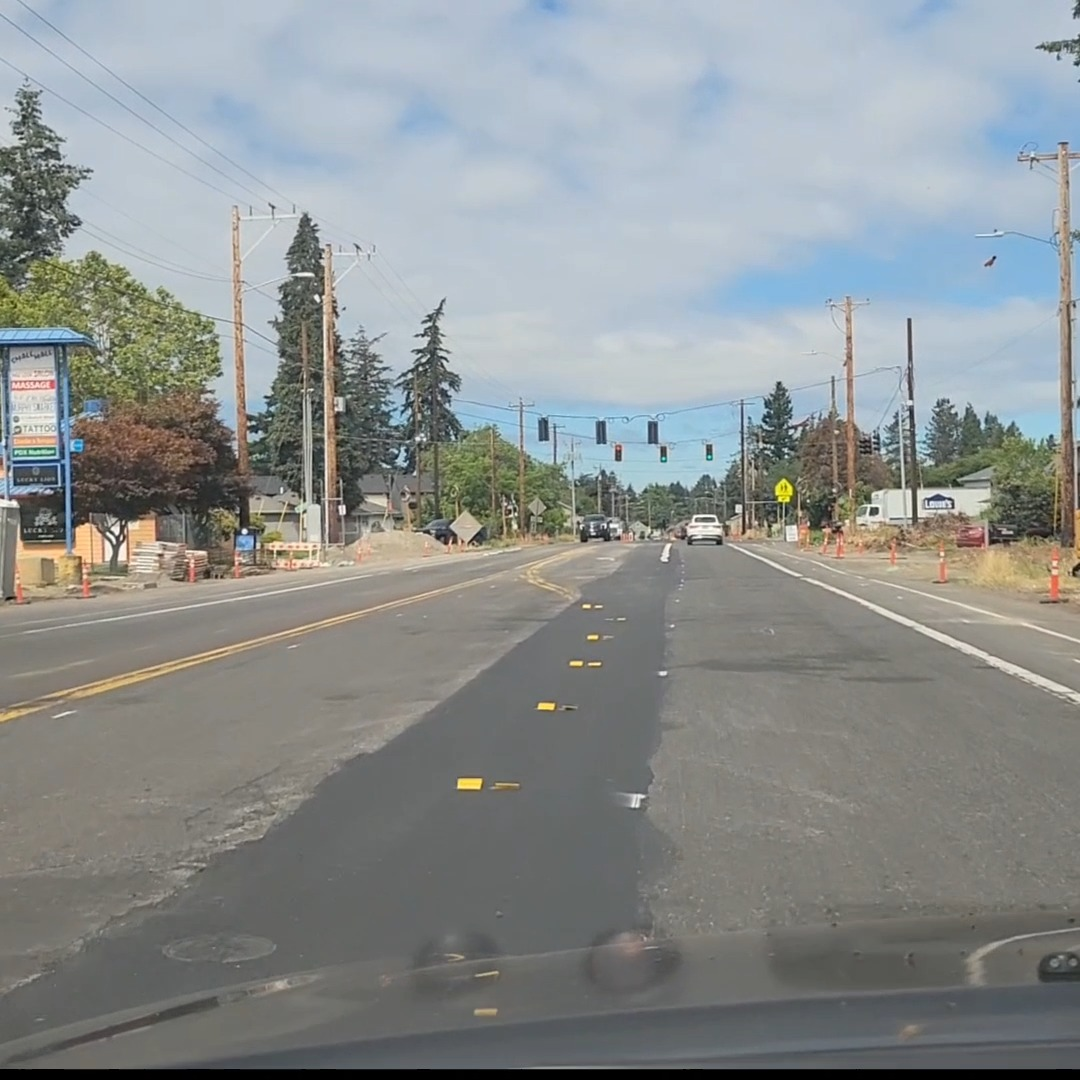car: (416, 515, 484, 545), (952, 520, 1022, 547), (683, 514, 724, 545), (578, 514, 612, 542), (604, 518, 624, 540), (668, 520, 689, 539)
crosswalk-sign: (774, 478, 792, 502)
delineator: (1042, 550, 1065, 602), (934, 541, 949, 583), (13, 565, 29, 604), (80, 559, 91, 599), (233, 547, 242, 577), (833, 528, 842, 557), (820, 528, 830, 553), (889, 537, 897, 565), (187, 556, 195, 582), (286, 551, 296, 570), (800, 527, 809, 548), (421, 538, 432, 555), (855, 530, 863, 552), (444, 536, 452, 553)
